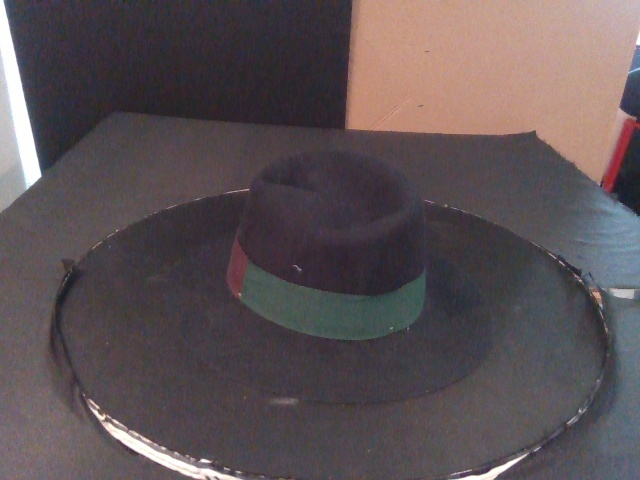hat: (162, 149, 491, 402)
